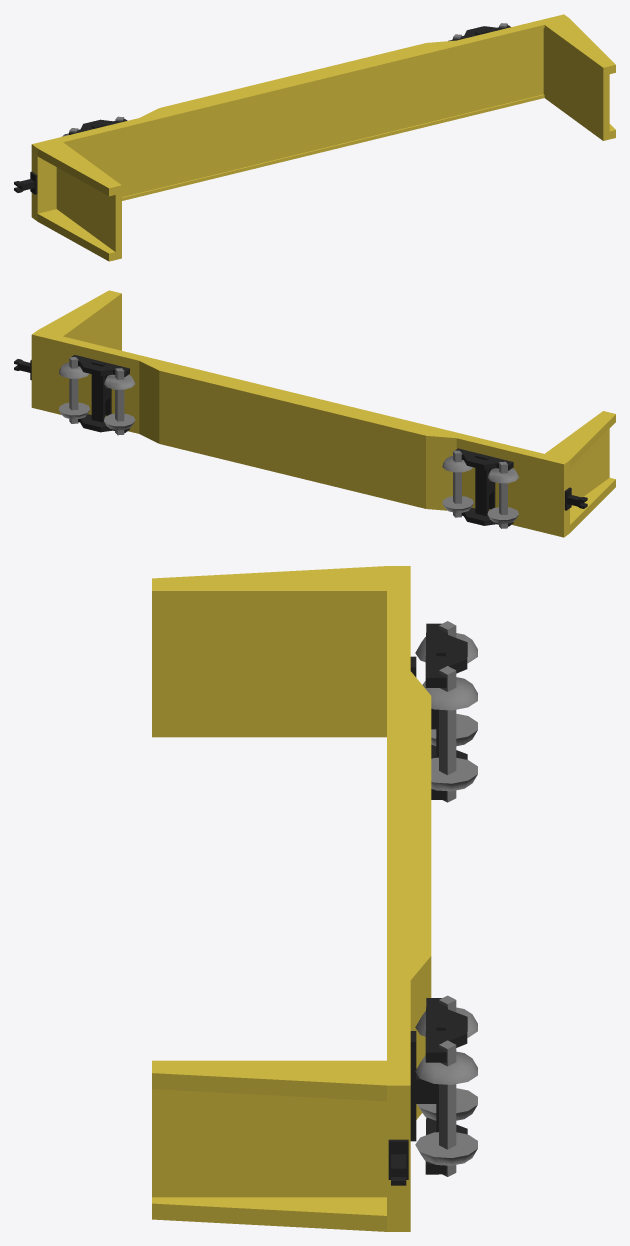
Rendered from bulkhead_flat_car_73.5ft.dae.
The picture shows the model from 3 angles, top to bottom: view 1: azimuth 30°, elevation 25°; view 2: azimuth 150°, elevation 25°; view 3: azimuth 270°, elevation 25°; orthographic projection. The views are drawn at different scales.
Parts seen in each view (by area): view 1: coords_ME_ID137_MA_Platform, coords_ME_ID151_MA_Platform; view 2: coords_ME_ID137_MA_Platform, coords_ME_ID151_MA_Platform, coords_ME_ID103_MA_Frame, coords_ME_ID44_MA_Frame, coords_ME_ID52_MA_Frame, coords_ME_ID109_MA_Frame, coords_ME_ID84_MA_Wheels, coords_ME_ID78_MA_Wheels, coords_ME_ID25_MA_Wheels, coords_ME_ID19_MA_Wheels, coords_ME_ID66_MA_Wheels, coords_ME_ID90_MA_Wheels (+6 smaller); view 3: coords_ME_ID137_MA_Platform, coords_ME_ID145_MA_Platform, coords_ME_ID109_MA_Frame, coords_ME_ID52_MA_Frame, coords_ME_ID78_MA_Wheels, coords_ME_ID19_MA_Wheels, coords_ME_ID103_MA_Frame, coords_ME_ID66_MA_Wheels, coords_ME_ID96_MA_Wheels, coords_ME_ID37_MA_Wheels, coords_ME_ID5_MA_Wheels.
Part boxes in pixels (x1,y1,x2,y2): coords_ME_ID137_MA_Platform: (31, 14, 615, 261); coords_ME_ID151_MA_Platform: (37, 157, 115, 253); coords_ME_ID137_MA_Platform: (31, 290, 615, 537); coords_ME_ID151_MA_Platform: (570, 429, 615, 524); coords_ME_ID103_MA_Frame: (91, 360, 111, 422); coords_ME_ID44_MA_Frame: (475, 454, 495, 515); coords_ME_ID52_MA_Frame: (455, 448, 513, 470); coords_ME_ID109_MA_Frame: (71, 355, 129, 376); coords_ME_ID84_MA_Wheels: (115, 368, 124, 435); coords_ME_ID78_MA_Wheels: (69, 357, 78, 423); coords_ME_ID25_MA_Wheels: (499, 461, 507, 528); coords_ME_ID19_MA_Wheels: (453, 450, 461, 517); coords_ME_ID66_MA_Wheels: (59, 402, 90, 419); coords_ME_ID90_MA_Wheels: (104, 413, 135, 430); coords_ME_ID137_MA_Platform: (152, 566, 431, 1231); coords_ME_ID145_MA_Platform: (152, 1089, 386, 1215); coords_ME_ID109_MA_Frame: (425, 998, 467, 1062); coords_ME_ID52_MA_Frame: (425, 623, 467, 687); coords_ME_ID78_MA_Wheels: (439, 1040, 456, 1176); coords_ME_ID19_MA_Wheels: (439, 666, 456, 802); coords_ME_ID103_MA_Frame: (410, 1016, 445, 1141); coords_ME_ID66_MA_Wheels: (415, 1132, 477, 1165); coords_ME_ID96_MA_Wheels: (415, 1051, 477, 1084); coords_ME_ID37_MA_Wheels: (422, 677, 477, 710); coords_ME_ID5_MA_Wheels: (431, 757, 477, 791).
Size of the model in its own units: 224 by 27.5 by 55.49.
